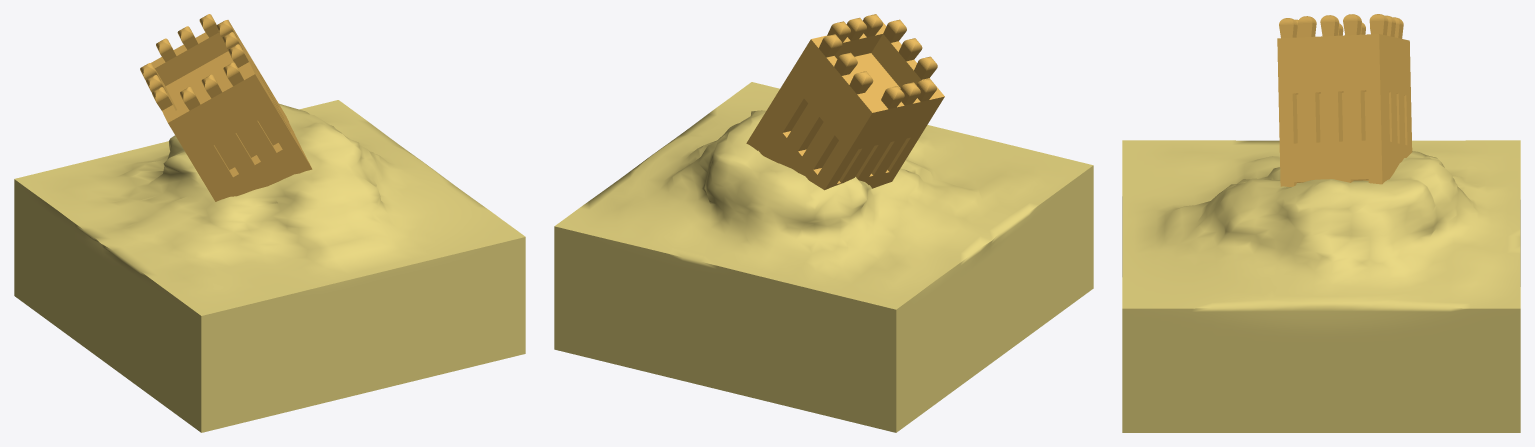
Rendered from Ruins.fbx.
3 renders of one model, left to right at view 1: azimuth 30°, elevation 25°; view 2: azimuth 150°, elevation 25°; view 3: azimuth 270°, elevation 25°, orthographic. The views are drawn at different scales.
Parts seen in each view (by area): view 1: Cube.003, Cube.004; view 2: Cube.003, Cube.004; view 3: Cube.003, Cube.004.
Boxes of the visible parts, x1,y1,x2,y2 form: Cube.003: (14,100,525,432); Cube.004: (140,14,312,201); Cube.003: (554,82,1093,432); Cube.004: (746,14,944,190); Cube.003: (1122,140,1520,432); Cube.004: (1277,14,1412,187).
Size of the model in its own units: 754 by 661 by 748.
